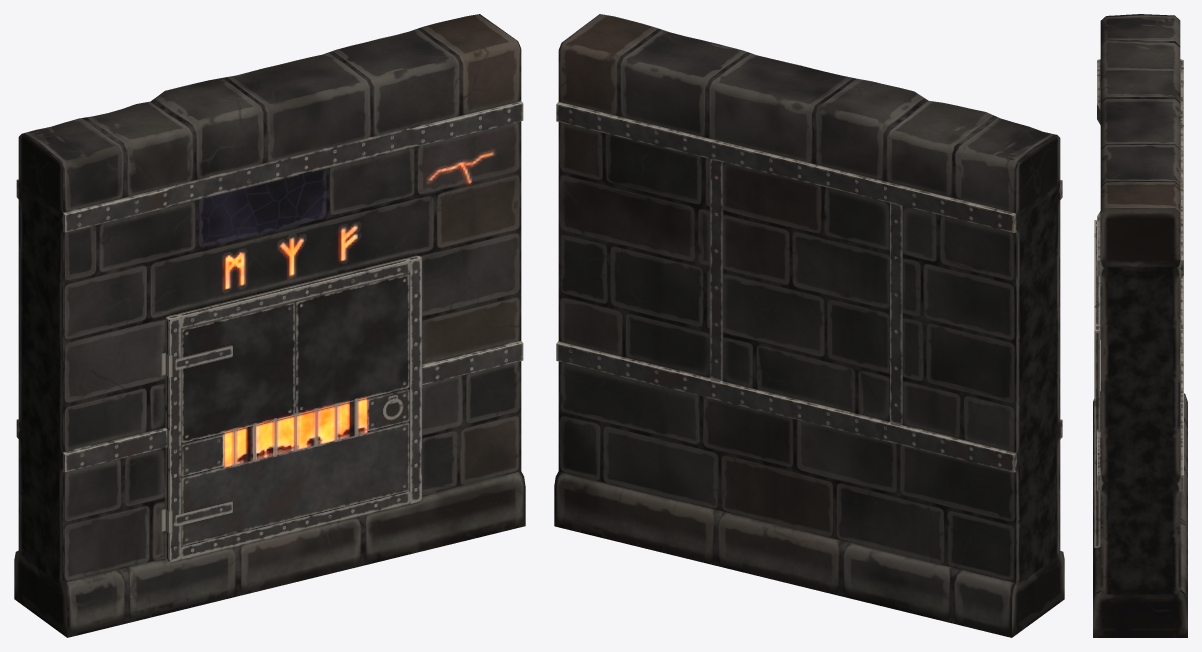
Rendered from hellforge_wall_b.glb.
3 renders of one model, left to right at view 1: azimuth 30°, elevation 25°; view 2: azimuth 150°, elevation 25°; view 3: azimuth 270°, elevation 25°, orthographic. The views are drawn at different scales.
Parts seen in each view (by area): view 1: hellforge_wall_b; view 2: hellforge_wall_b; view 3: hellforge_wall_b.
Boxes of the visible parts, bbox=[...] form: hellforge_wall_b: bbox=[14, 14, 525, 637]; hellforge_wall_b: bbox=[554, 14, 1064, 637]; hellforge_wall_b: bbox=[1093, 14, 1187, 637].
Size of the model in its own units: 4 by 4.01 by 0.8.
Materials: 1 (1 with a texture image).
